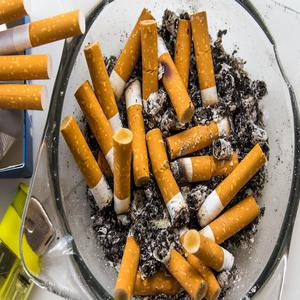cigarette: (62, 116, 113, 206), (1, 8, 86, 49), (191, 11, 223, 110), (114, 128, 131, 213)
